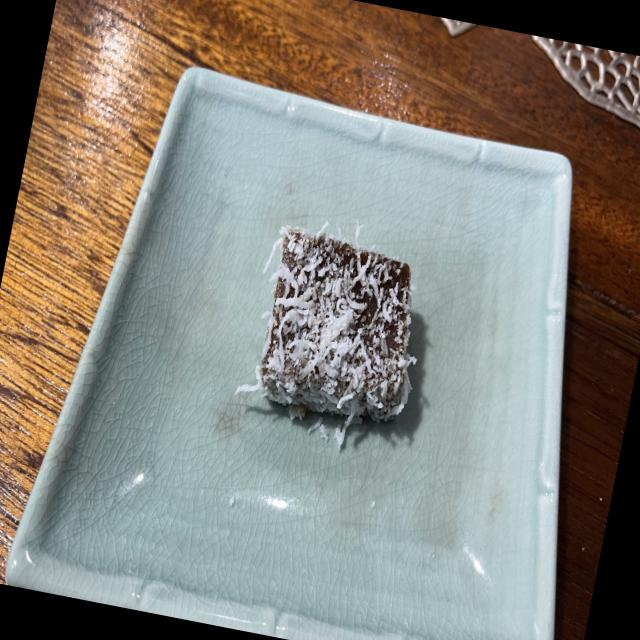kaswi: (237, 226, 415, 427)
